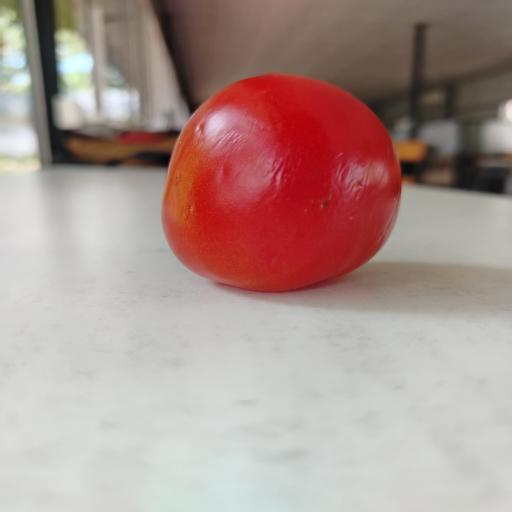overipe: (162, 74, 401, 291)
